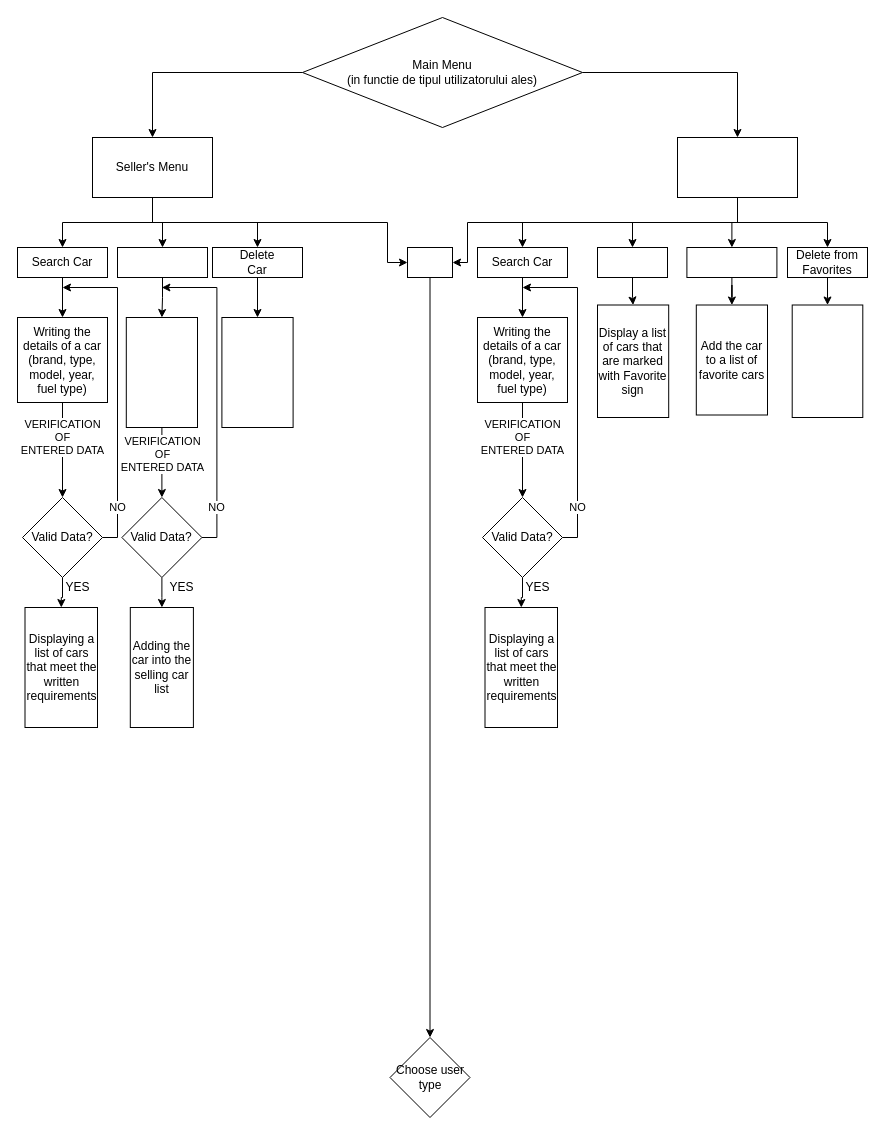
Some shapes in this 885 by 1135 pixel diagram are drawn without their labels. The centre of each missing label's shape, as x and y in pixels:
"Add Car" goes at (162,262).
"Add car with some specific details(type, brand, model, year, fuel type)" goes at (161,372).
"Add to Favorites" goes at (731,262).
"Customer's Menu" goes at (737,167).
"Display Favorites" goes at (632,262).
"Log Out" goes at (429,262).
"Removing a car that the customer added to the list of favorite cars" goes at (827,361).
"Removing a car that the seller added from selling car list" goes at (257,372).
